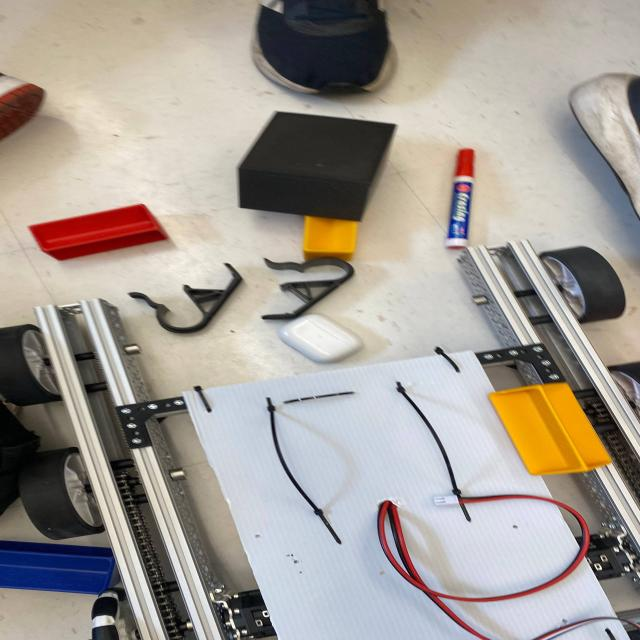blue-specimen: (0, 540, 119, 595)
red-specimen: (29, 204, 168, 260)
yellow-specimen: (489, 383, 611, 475), (303, 216, 358, 261)
